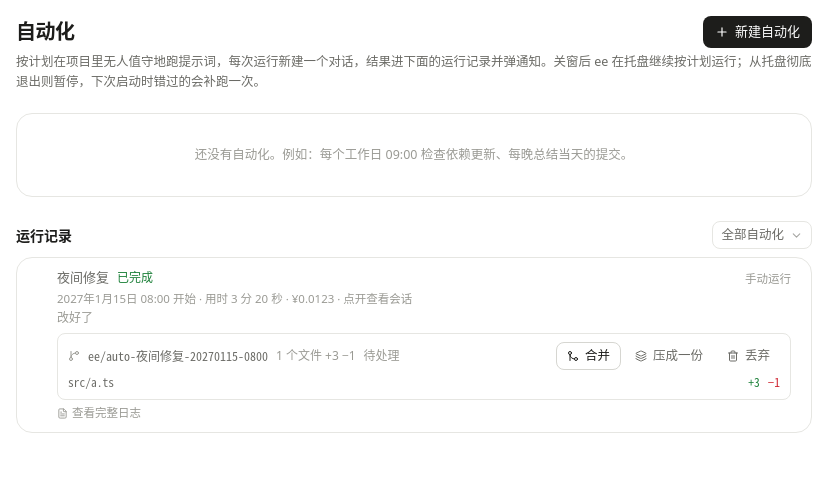
AutomationsPage 运行历史（D5-3） › 显示用时、花费、worktree 改动，并能合并 / 丢弃、展开日志
The image size is (829, 489).
Check: the element with test id "run-row" shows "用时 3 分 20 秒", box [57,291,334,306]
Check: the element with test id "run-row" shows "¥0.0123", box [57,291,334,306]
Step 1. Click the button "查看完整日志" → (99, 413), box [57,404,141,422]
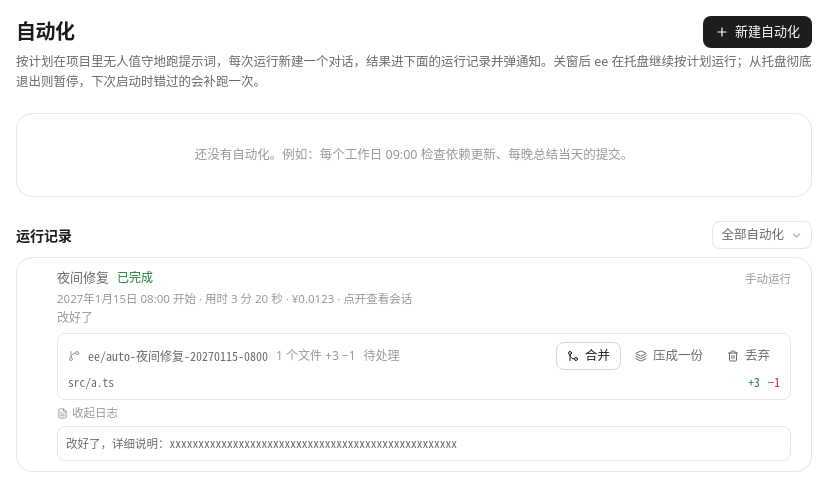
Check: the text "详细说明" is shown, box [66,435,457,451]
Step 2. Click the button "合并" → (588, 356), box [556,342,621,370]
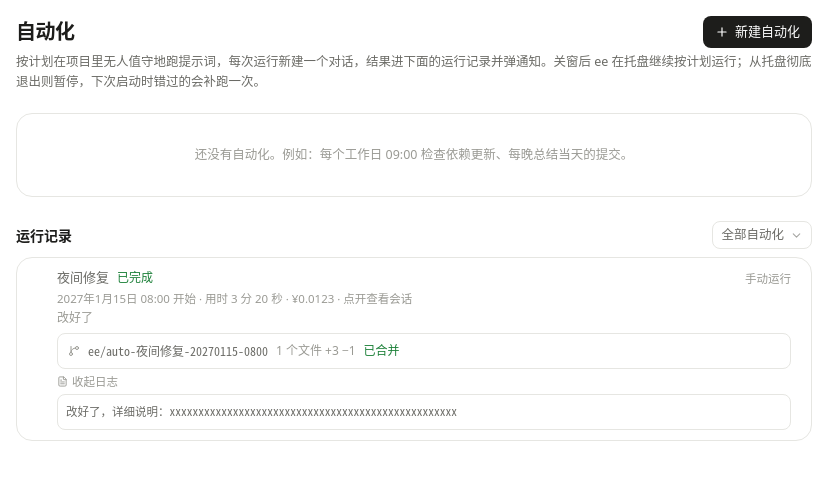
Check: the element with test id "run-row" shows "已合并", box [364,342,400,359]
